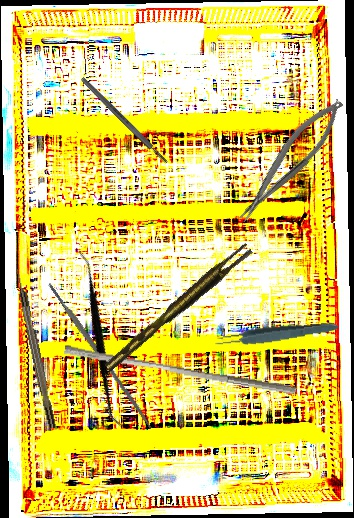Hook Surgical: (12, 263, 57, 430)
Needle Holder: (226, 92, 354, 228)
Pusher: (62, 344, 299, 396)
Scalpel Handle: (46, 280, 155, 431), (79, 75, 170, 166)
Spatula Surgical: (13, 249, 188, 429)
Tissue Forceps: (98, 242, 257, 372), (213, 317, 339, 350)
